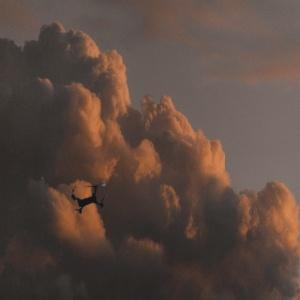drone: (56, 165, 123, 232)
